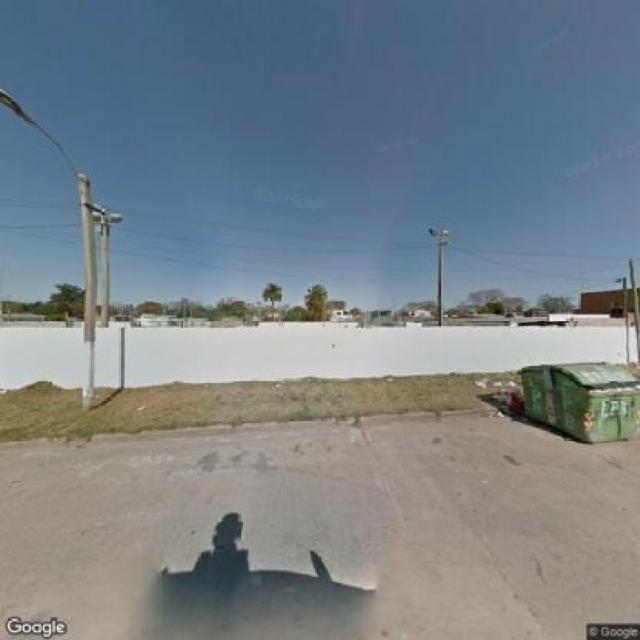garbage: (476, 375, 532, 418)
